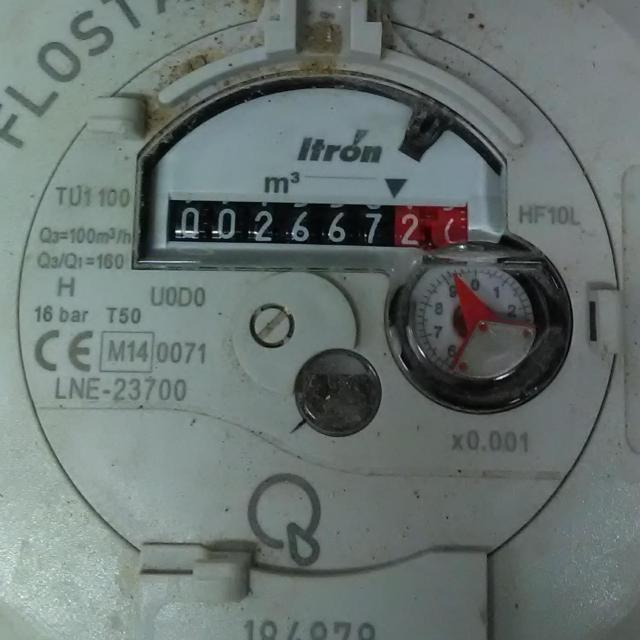gaz_meter: (19, 14, 626, 573)
indication: (166, 199, 469, 249)
